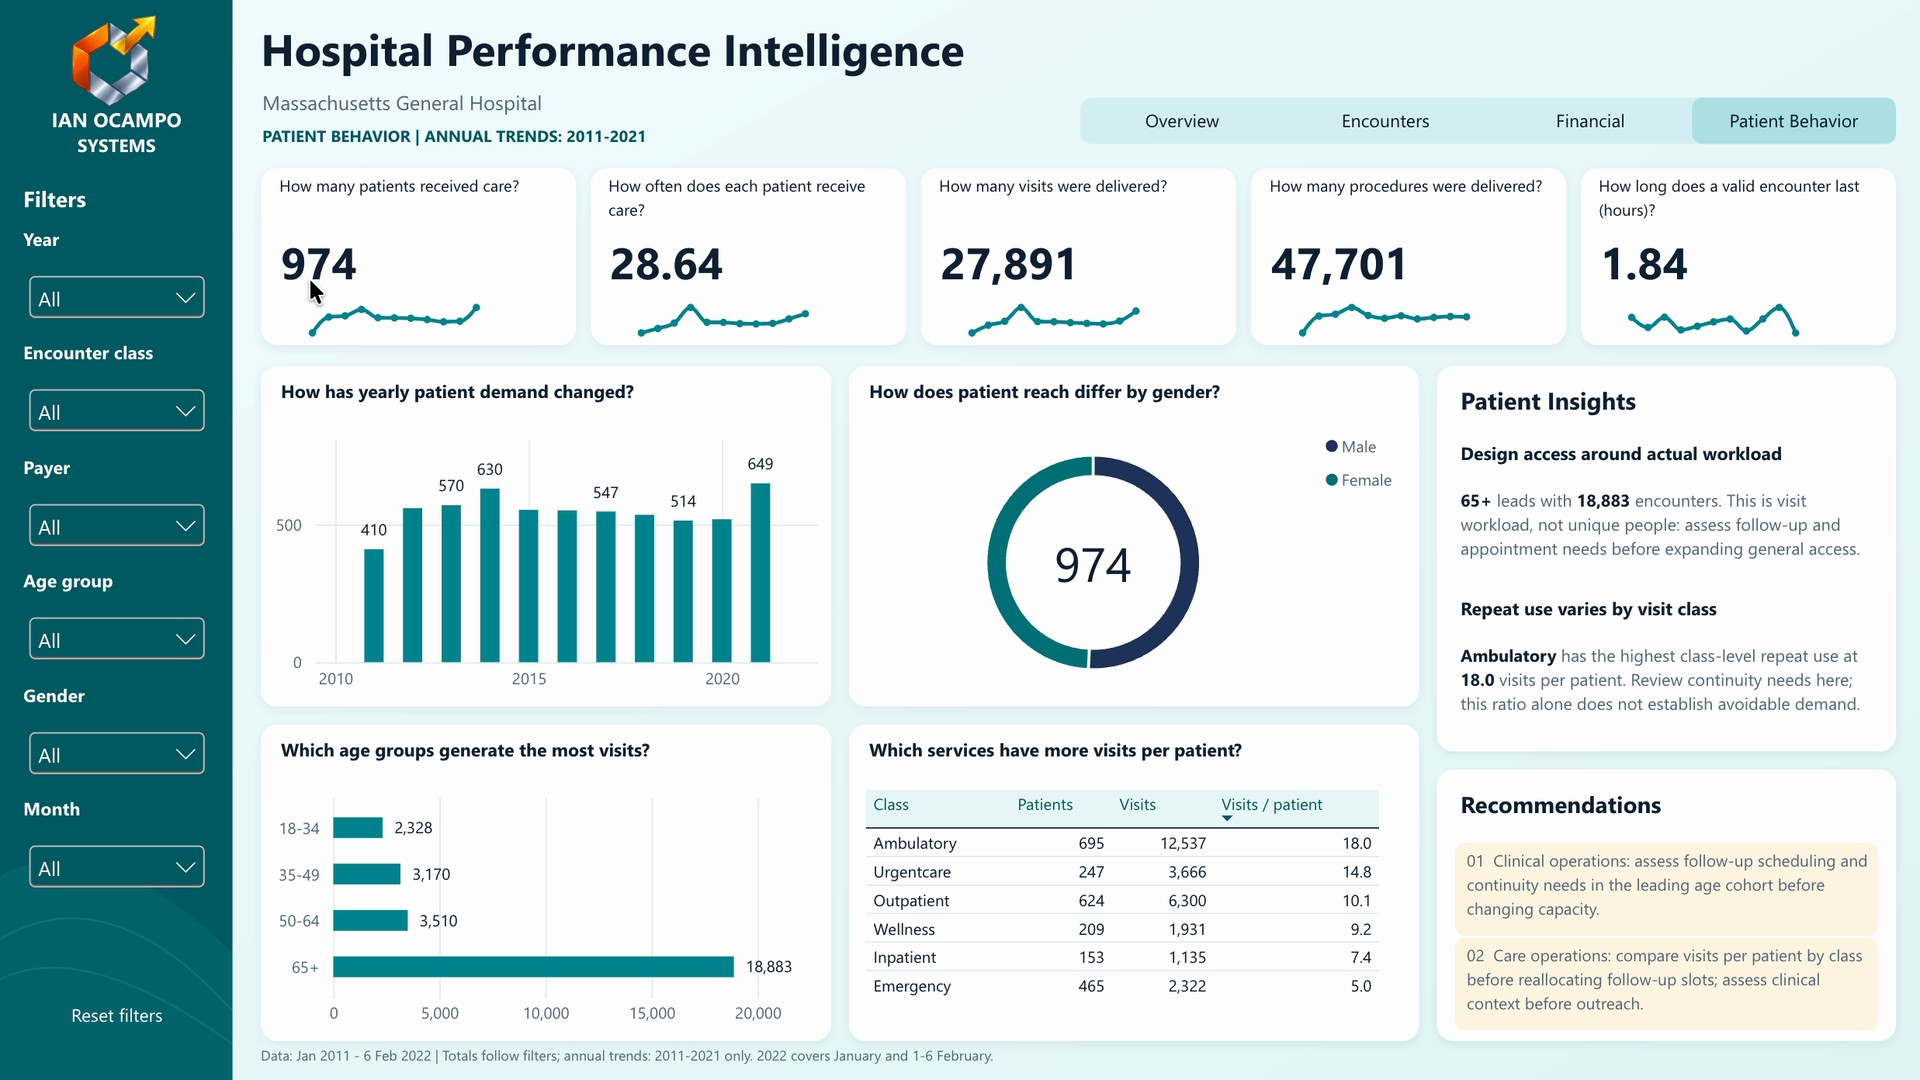

This screenshot's page, from the dashboard's own definition file:
{"tool":"powerbi","page":{"name":"Patient Behavior","canvas":[1280,720],"ordinal":3},"visuals":[{"type":"textbox","box":[174,12,1086,53],"z":4},{"type":"textbox","box":[175,59,510,31],"z":5},{"type":"textbox","box":[175,82,510,28],"z":6},{"type":"actionButton","box":[720,65,136,31],"z":7},{"type":"actionButton","box":[856,65,136,31],"z":8},{"type":"actionButton","box":[992,65,136,31],"z":9},{"type":"actionButton","box":[1128,65,136,31],"z":10},{"type":"textbox","box":[16,122,125,33],"z":11},{"type":"textbox","box":[16,151,126,30],"z":12},{"type":"slicer","fields":{"Values":["DimDate.Year"]},"box":[14,179,127,49],"z":13},{"type":"textbox","box":[16,227,126,30],"z":14},{"type":"slicer","fields":{"Values":["encounters.EncounterClass"]},"box":[14,255,127,49],"z":15},{"type":"textbox","box":[16,303,126,30],"z":16},{"type":"slicer","fields":{"Values":["payers.Name"]},"box":[14,331,127,49],"z":17},{"type":"textbox","box":[16,379,126,30],"z":18},{"type":"slicer","fields":{"Values":["encounters.PatientAgeGroup"]},"box":[14,407,127,49],"z":19},{"type":"textbox","box":[16,455,126,30],"z":20},{"type":"slicer","fields":{"Values":["patients.Gender"]},"box":[14,483,127,49],"z":21},{"type":"textbox","box":[16,531,126,30],"z":22},{"type":"slicer","fields":{"Values":["DimDate.Month"]},"box":[14,559,127,49],"z":23},{"type":"actionButton","box":[14,661,127,32],"z":24},{"type":"textbox","box":[174,694,1090,26],"z":25},{"type":"textbox","box":[186,115,186,43],"z":26},{"type":"cardVisual","fields":{"Data":["encounters.Unique Patients"]},"box":[187,157,184,34],"z":27},{"type":"lineChart","fields":{"Category":["DimDate.Year"],"Y":["encounters.Unique Patients"]},"box":[187,194,184,32],"z":28},{"type":"textbox","box":[406,115,186,43],"z":29},{"type":"cardVisual","fields":{"Data":["encounters.Encounters per Patient"]},"box":[407,157,184,34],"z":30},{"type":"lineChart","fields":{"Category":["DimDate.Year"],"Y":["encounters.Encounters per Patient"]},"box":[407,194,184,32],"z":31},{"type":"textbox","box":[626,115,186,43],"z":32},{"type":"cardVisual","fields":{"Data":["encounters.Total Encounters"]},"box":[627,157,184,34],"z":33},{"type":"lineChart","fields":{"Category":["DimDate.Year"],"Y":["encounters.Total Encounters"]},"box":[627,194,184,32],"z":34},{"type":"textbox","box":[846,115,186,43],"z":35},{"type":"cardVisual","fields":{"Data":["encounters.Total Procedures"]},"box":[847,157,184,34],"z":36},{"type":"lineChart","fields":{"Category":["DimDate.Year"],"Y":["encounters.Total Procedures"]},"box":[847,194,184,32],"z":37},{"type":"textbox","box":[1066,115,186,43],"z":38},{"type":"cardVisual","fields":{"Data":["encounters.Average Duration Hours"]},"box":[1067,157,184,34],"z":39},{"type":"lineChart","fields":{"Category":["DimDate.Year"],"Y":["encounters.Average Duration Hours"]},"box":[1067,194,184,32],"z":40},{"type":"textbox","box":[187,252,354,42],"z":41},{"type":"clusteredColumnChart","fields":{"Category":["DimDate.Year"],"Y":["encounters.Unique Patients"]},"box":[183,286,362,179],"z":42},{"type":"textbox","box":[579,252,354,42],"z":43},{"type":"donutChart","fields":{"Category":["patients.Gender"],"Y":["encounters.Unique Patients"]},"box":[575,286,362,179],"z":44},{"type":"textbox","box":[187,491,354,42],"z":45},{"type":"clusteredBarChart","fields":{"Category":["encounters.PatientAgeGroup"],"Y":["encounters.Total Encounters"]},"box":[183,525,362,163],"z":46},{"type":"textbox","box":[579,491,354,42],"z":47},{"type":"tableEx","fields":{"Values":["encounters.EncounterClass","encounters.Unique Patients","encounters.Total Encounters","encounters.Encounters per Patient"]},"box":[576,527,360,157],"z":48},{"type":"textbox","box":[974,256,274,35],"z":49},{"type":"textbox","box":[974,294,274,32],"z":50},{"type":"textbox","box":[974,325,274,71],"z":51},{"type":"textbox","box":[974,397,274,32],"z":52},{"type":"textbox","box":[974,428,274,71],"z":53},{"type":"textbox","box":[974,526,274,34],"z":54},{"type":"textbox","box":[978,565,270,57],"z":55},{"type":"textbox","box":[978,628,270,57],"z":56},{"type":"image","box":[41.5,8,66,66],"z":1000},{"type":"textbox","box":[8,70,139,43],"z":1001}]}

Visuals, with their boxes in screenshot pixels (x1, y1, x2, y2), scaled from the page's 1280x720 canvas onto the 1920x1080 screenshot:
textbox: region(261, 18, 1890, 98)
textbox: region(262, 88, 1028, 135)
textbox: region(262, 123, 1028, 165)
actionButton: region(1080, 98, 1284, 144)
actionButton: region(1284, 98, 1488, 144)
actionButton: region(1488, 98, 1692, 144)
actionButton: region(1692, 98, 1896, 144)
textbox: region(24, 183, 212, 232)
textbox: region(24, 226, 213, 272)
slicer - DimDate.Year: region(21, 268, 212, 342)
textbox: region(24, 340, 213, 386)
slicer - encounters.EncounterClass: region(21, 382, 212, 456)
textbox: region(24, 454, 213, 500)
slicer - payers.Name: region(21, 496, 212, 570)
textbox: region(24, 568, 213, 614)
slicer - encounters.PatientAgeGroup: region(21, 610, 212, 684)
textbox: region(24, 682, 213, 728)
slicer - patients.Gender: region(21, 724, 212, 798)
textbox: region(24, 796, 213, 842)
slicer - DimDate.Month: region(21, 838, 212, 912)
actionButton: region(21, 992, 212, 1040)
textbox: region(261, 1041, 1896, 1079)
textbox: region(279, 172, 558, 237)
cardVisual - encounters.Unique Patients: region(280, 236, 556, 286)
lineChart - DimDate.Year x encounters.Unique Patients: region(280, 291, 556, 339)
textbox: region(609, 172, 888, 237)
cardVisual - encounters.Encounters per Patient: region(610, 236, 886, 286)
lineChart - DimDate.Year x encounters.Encounters per Patient: region(610, 291, 886, 339)
textbox: region(939, 172, 1218, 237)
cardVisual - encounters.Total Encounters: region(940, 236, 1216, 286)
lineChart - DimDate.Year x encounters.Total Encounters: region(940, 291, 1216, 339)
textbox: region(1269, 172, 1548, 237)
cardVisual - encounters.Total Procedures: region(1270, 236, 1546, 286)
lineChart - DimDate.Year x encounters.Total Procedures: region(1270, 291, 1546, 339)
textbox: region(1599, 172, 1878, 237)
cardVisual - encounters.Average Duration Hours: region(1600, 236, 1876, 286)
lineChart - DimDate.Year x encounters.Average Duration Hours: region(1600, 291, 1876, 339)
textbox: region(280, 378, 812, 441)
clusteredColumnChart - DimDate.Year x encounters.Unique Patients: region(274, 429, 818, 698)
textbox: region(868, 378, 1400, 441)
donutChart - patients.Gender x encounters.Unique Patients: region(862, 429, 1406, 698)
textbox: region(280, 736, 812, 800)
clusteredBarChart - encounters.PatientAgeGroup x encounters.Total Encounters: region(274, 788, 818, 1032)
textbox: region(868, 736, 1400, 800)
tableEx - encounters.EncounterClass x encounters.Unique Patients: region(864, 790, 1404, 1026)
textbox: region(1461, 384, 1872, 436)
textbox: region(1461, 441, 1872, 489)
textbox: region(1461, 488, 1872, 594)
textbox: region(1461, 596, 1872, 644)
textbox: region(1461, 642, 1872, 748)
textbox: region(1461, 789, 1872, 840)
textbox: region(1467, 848, 1872, 933)
textbox: region(1467, 942, 1872, 1028)
image: region(62, 12, 161, 111)
textbox: region(12, 105, 220, 170)
